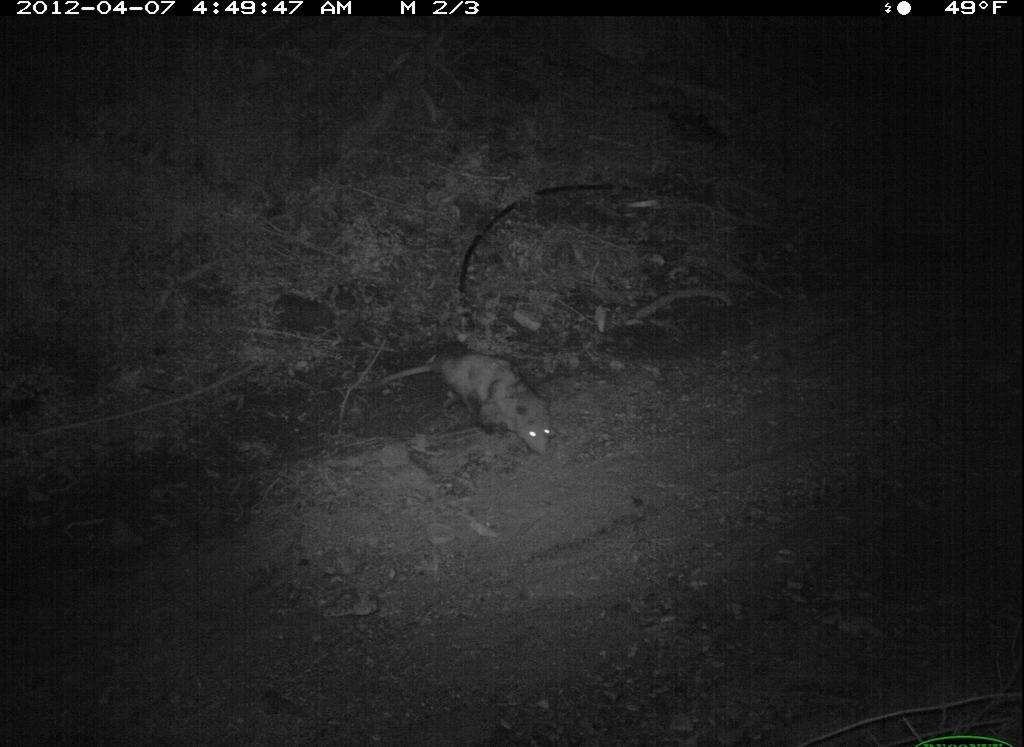opossum: (368, 342, 559, 463)
